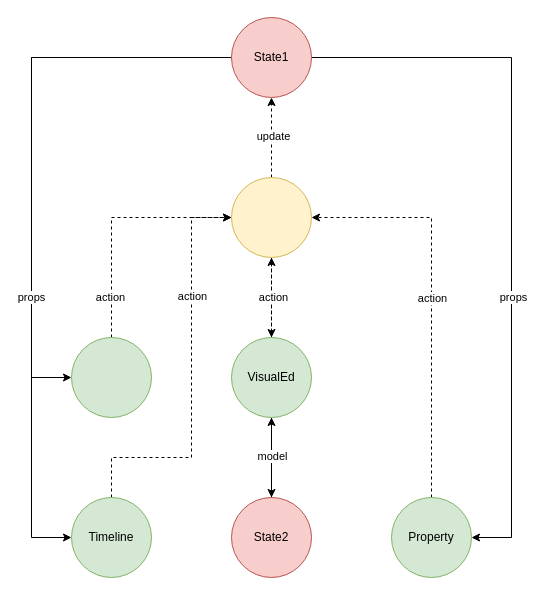
This 544x595 diagram has some shape labels left out. The shapes that lost their labels are listed below. From the top down, each one's centre as x and y in pixels, then its label:
(x=271, y=217): Reducer
(x=111, y=377): Resource
